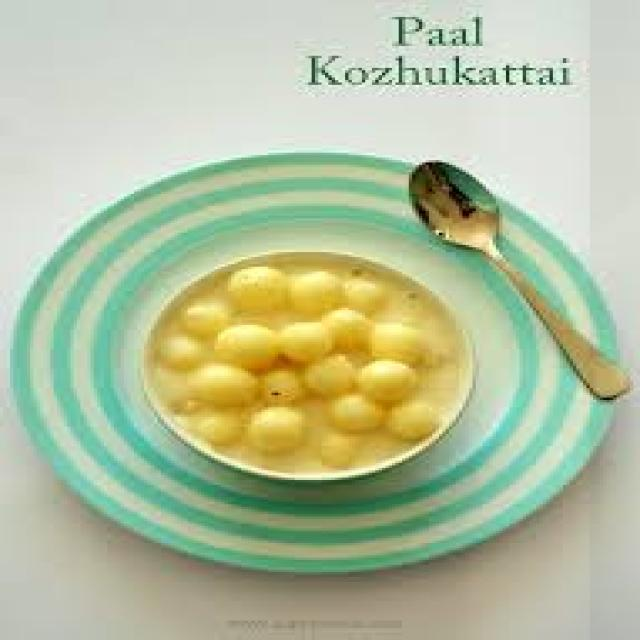paal kolukattai: (116, 250, 503, 494)
